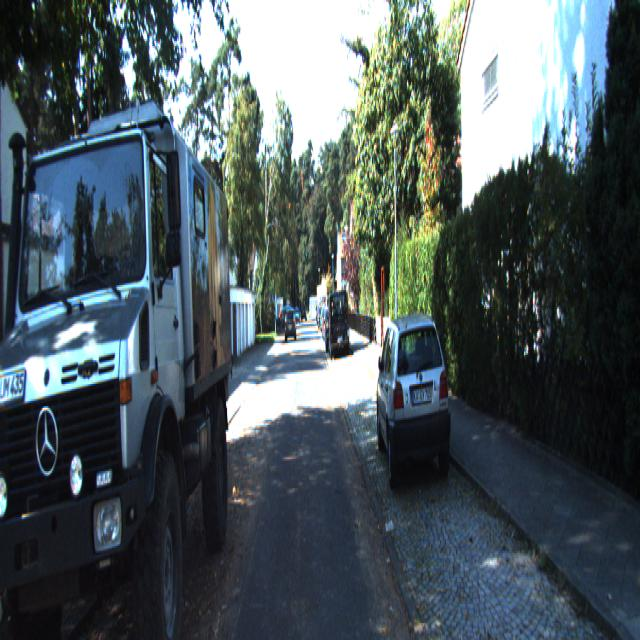Car: (0, 49, 235, 639), (374, 312, 456, 502), (328, 290, 350, 360), (284, 308, 297, 341)
